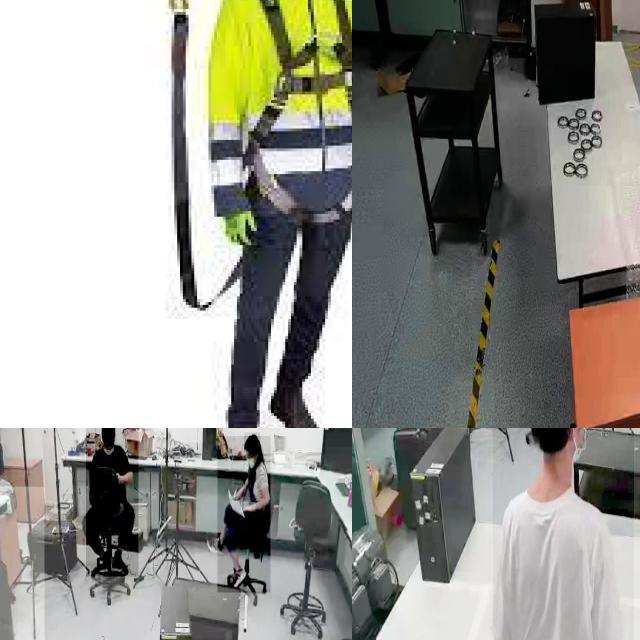Harness: (246, 0, 352, 225)
face_mask: (104, 434, 116, 458), (245, 451, 257, 472)
glasses: (110, 548, 130, 578), (226, 565, 247, 591), (206, 537, 224, 555)
hand_noglove: (241, 502, 255, 512)
head_nohelmet: (244, 432, 260, 450), (101, 428, 114, 431)
person: (493, 428, 634, 640), (217, 436, 271, 593), (86, 428, 139, 577)
